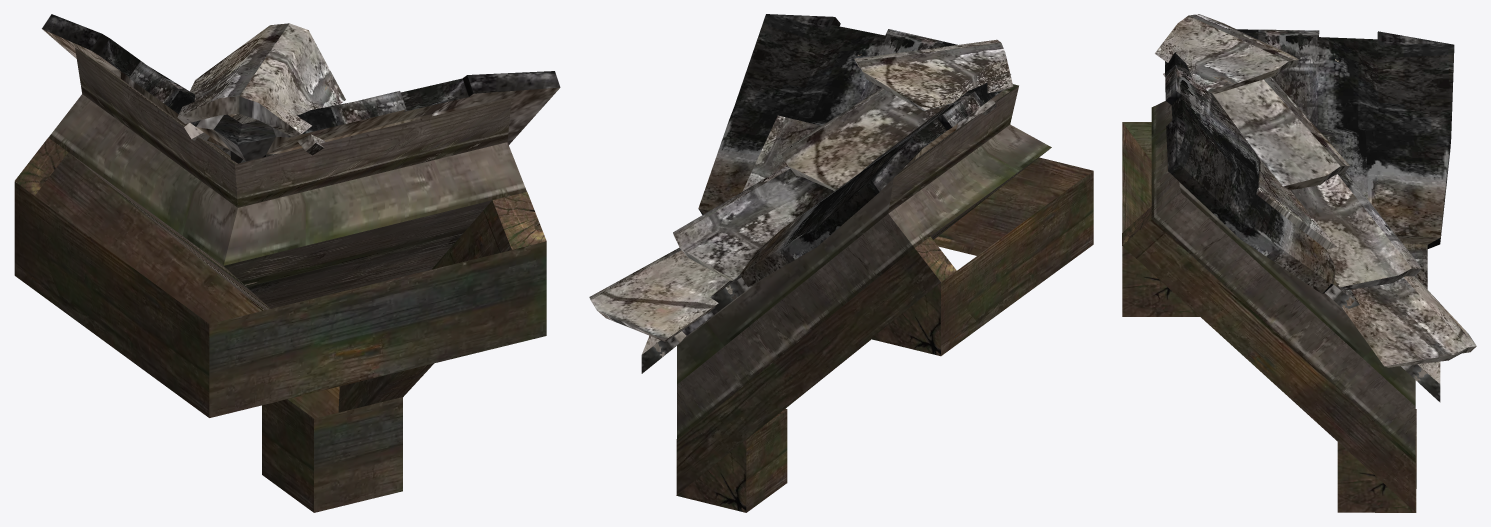
The picture shows the model from 3 angles, left to right: view 1: azimuth 30°, elevation 25°; view 2: azimuth 150°, elevation 25°; view 3: azimuth 270°, elevation 25°; orthographic projection. The views are drawn at different scales.
Visible parts, largest first — view 1: SM_T3_Roof_Small_Valley_LOD0; view 2: SM_T3_Roof_Small_Valley_LOD0; view 3: SM_T3_Roof_Small_Valley_LOD0.
Part boxes in pixels (left/top/right/bottom): SM_T3_Roof_Small_Valley_LOD0: left=14, top=14, right=560, bottom=512; SM_T3_Roof_Small_Valley_LOD0: left=589, top=14, right=1093, bottom=512; SM_T3_Roof_Small_Valley_LOD0: left=1122, top=14, right=1476, bottom=512.
Size of the model in its own units: 1.17 by 1.41 by 1.13.
3 materials, 3 textured.
